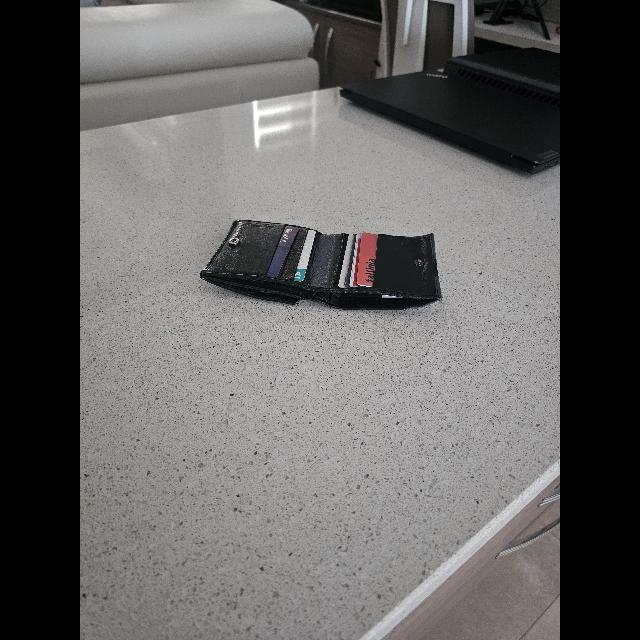Wallet: (202, 220, 438, 308)
